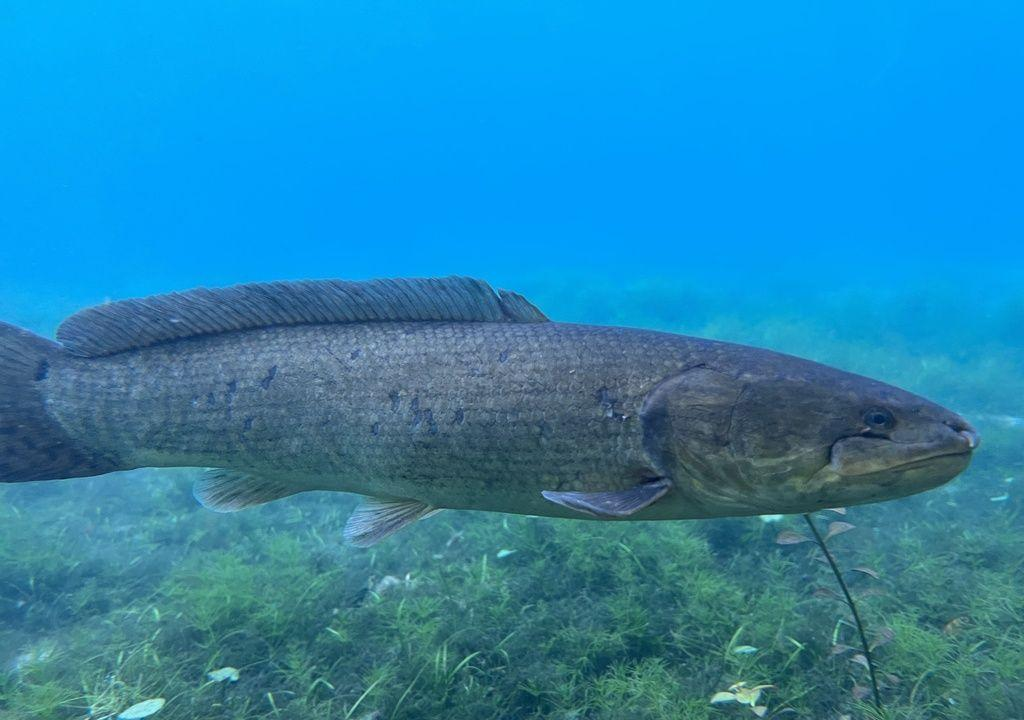Mudfish: (0, 272, 985, 522)
